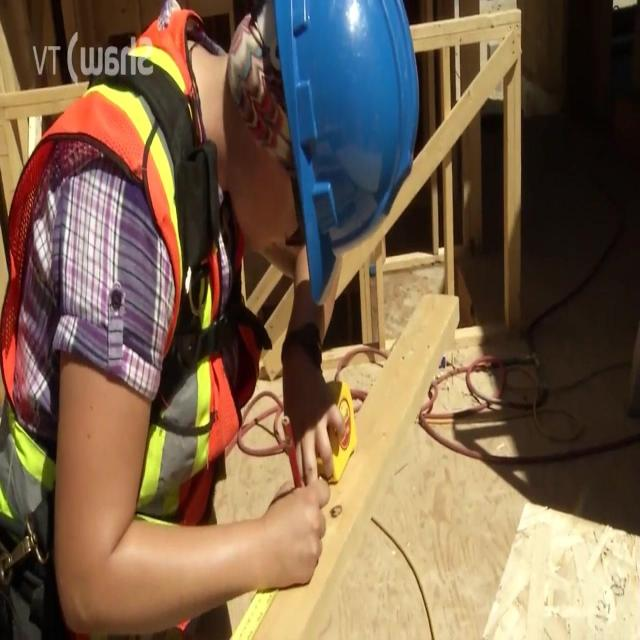Reflective-Jacket: (2, 24, 255, 565)
Safety-Helmet: (253, 0, 426, 276)
